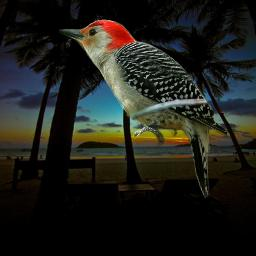Woodpecker: (59, 19, 227, 198)
